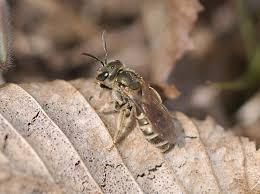Seladonia: (92, 40, 187, 156)
